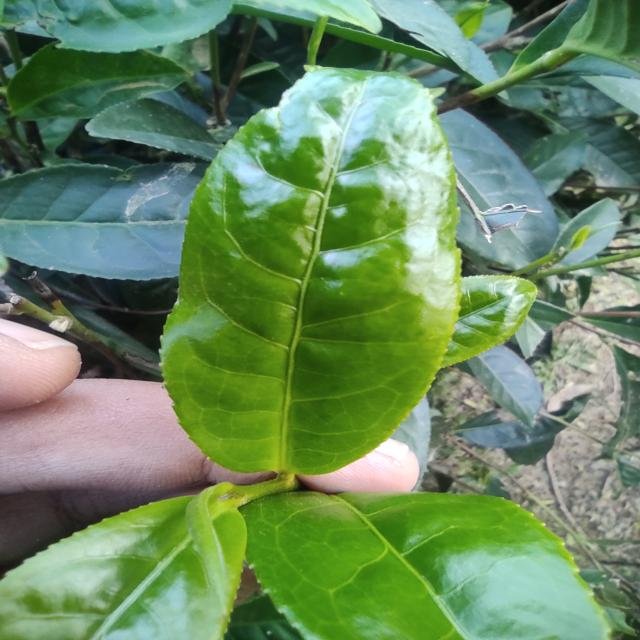Category C 4-7 days: (134, 42, 490, 522)
